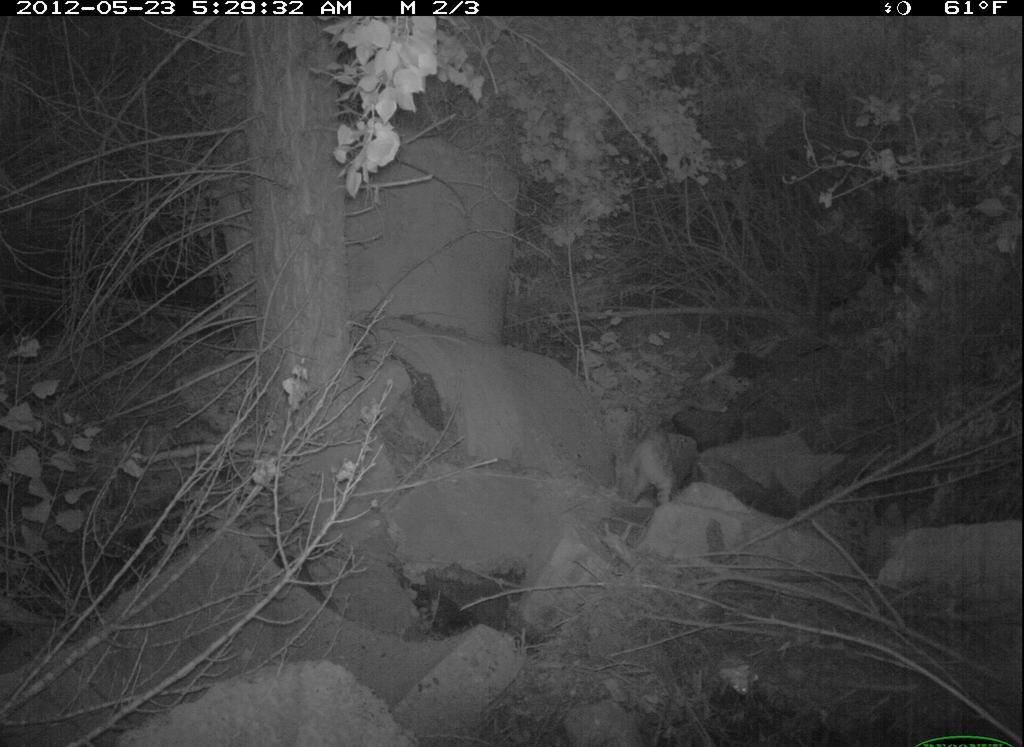bobcat: (624, 397, 699, 518)
